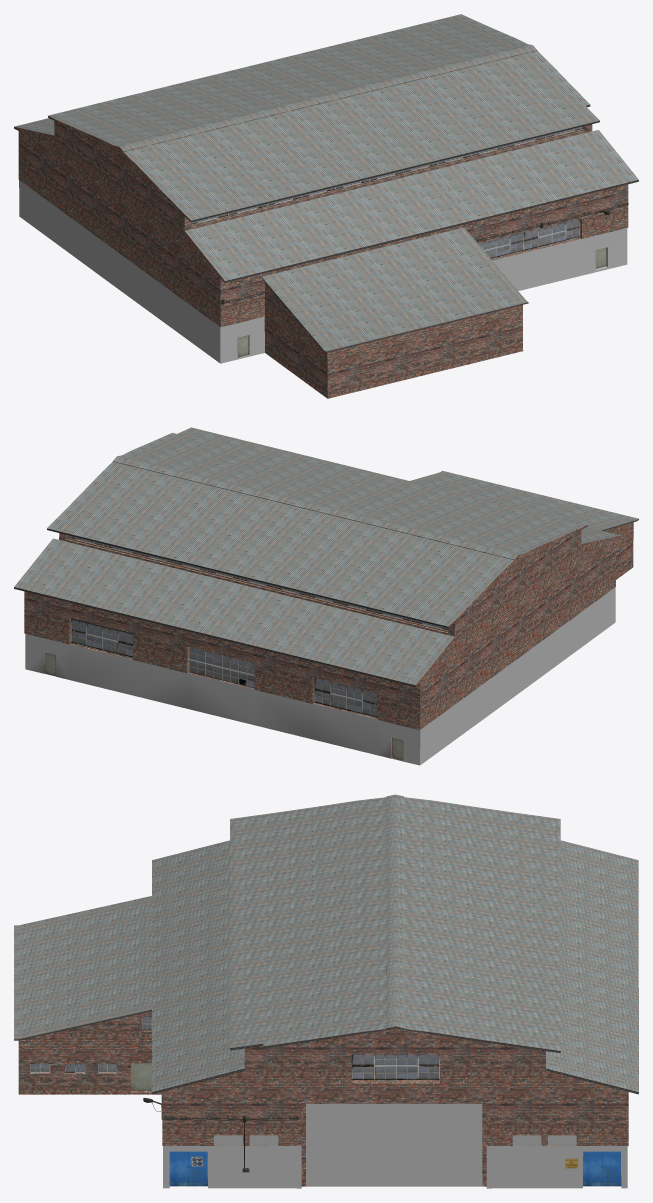
Rendered from building_2_lod1.fbx.
The picture shows the model from 3 angles, top to bottom: view 1: azimuth 30°, elevation 25°; view 2: azimuth 150°, elevation 25°; view 3: azimuth 270°, elevation 25°; orthographic projection. The views are drawn at different scales.
Parts seen in each view (by area): view 1: Mesh Object; view 2: Mesh Object; view 3: Mesh Object.
Part boxes in pixels (x1,y1,x2,y2): Mesh Object: (14,14,638,398); Mesh Object: (14,427,638,765); Mesh Object: (14,794,638,1188).
Size of the model in its own units: 35.77 by 11.91 by 40.6.
